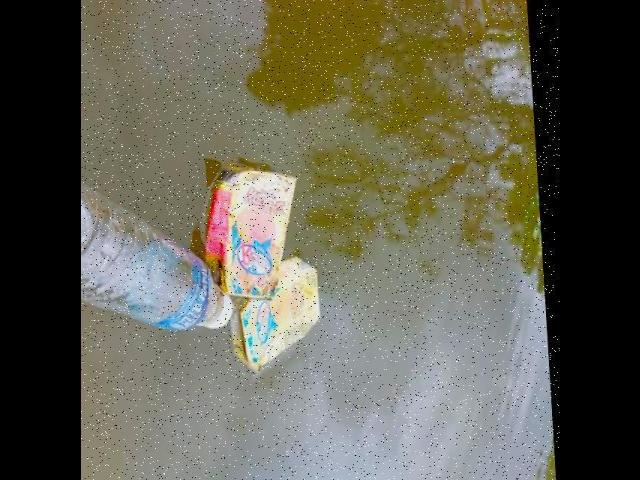Bottle: (80, 173, 236, 338)
Box: (208, 161, 300, 303), (238, 252, 324, 377)
